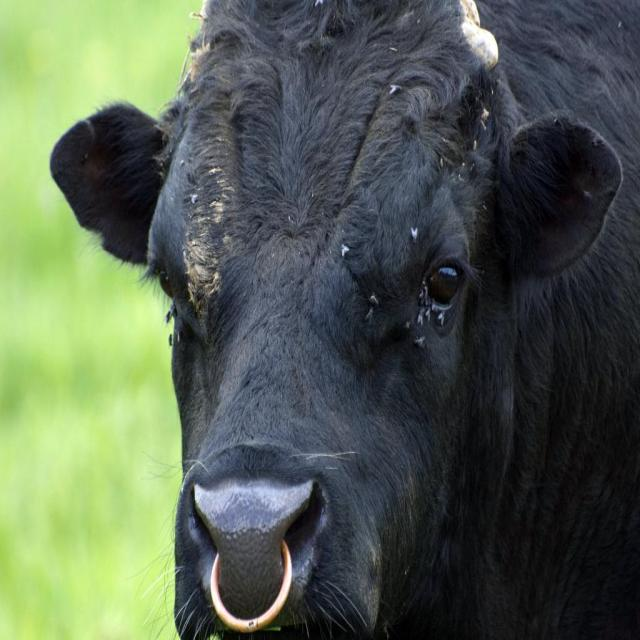Cattle: (47, 0, 640, 640)
